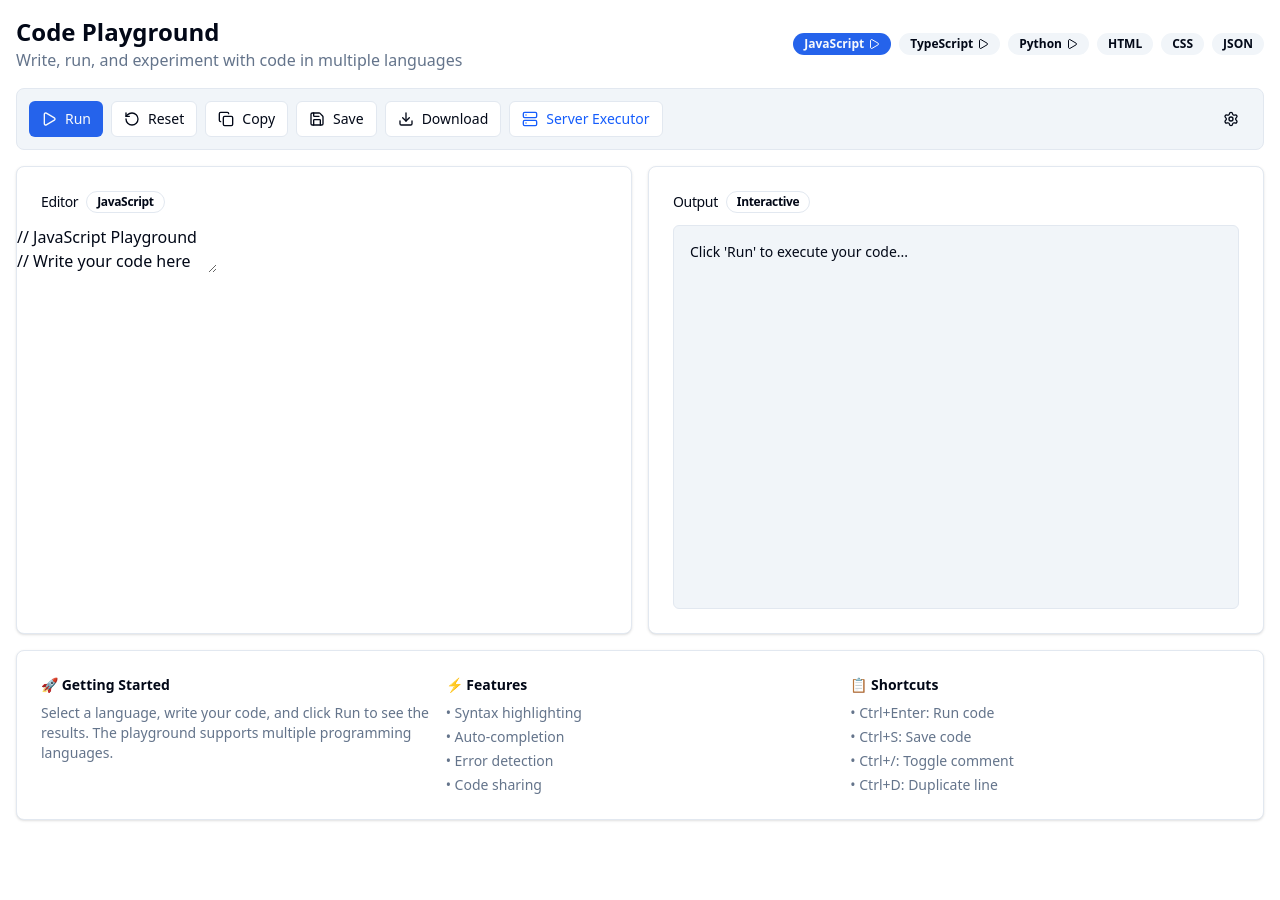
CodePlayground › runs JavaScript code and displays output
Replace the text in the text box with test id "monaco-editor" with "console.log(\"Hello World\")": (117, 249) [17,225,217,273]
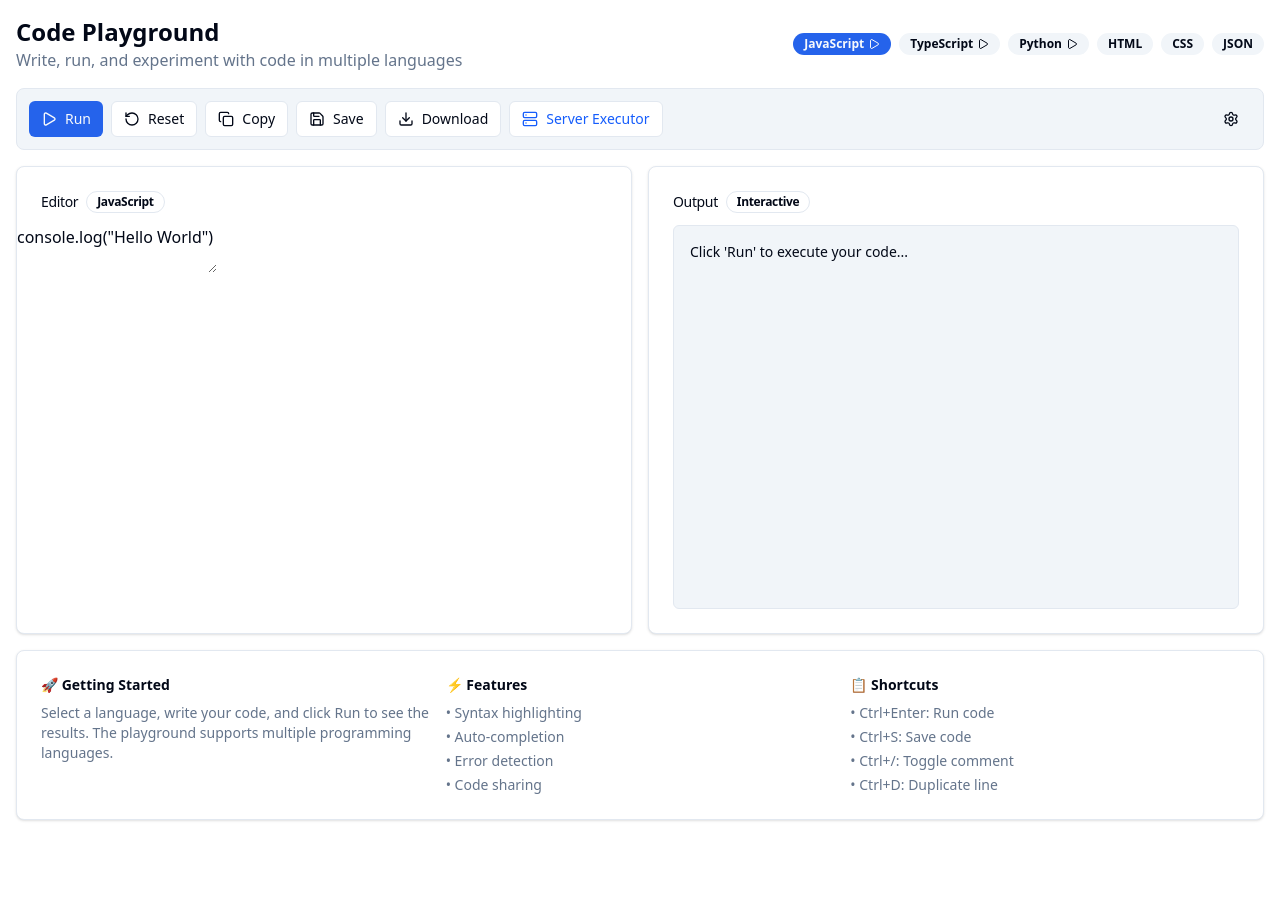
Click the button "Run": (66, 119) [29,101,103,137]
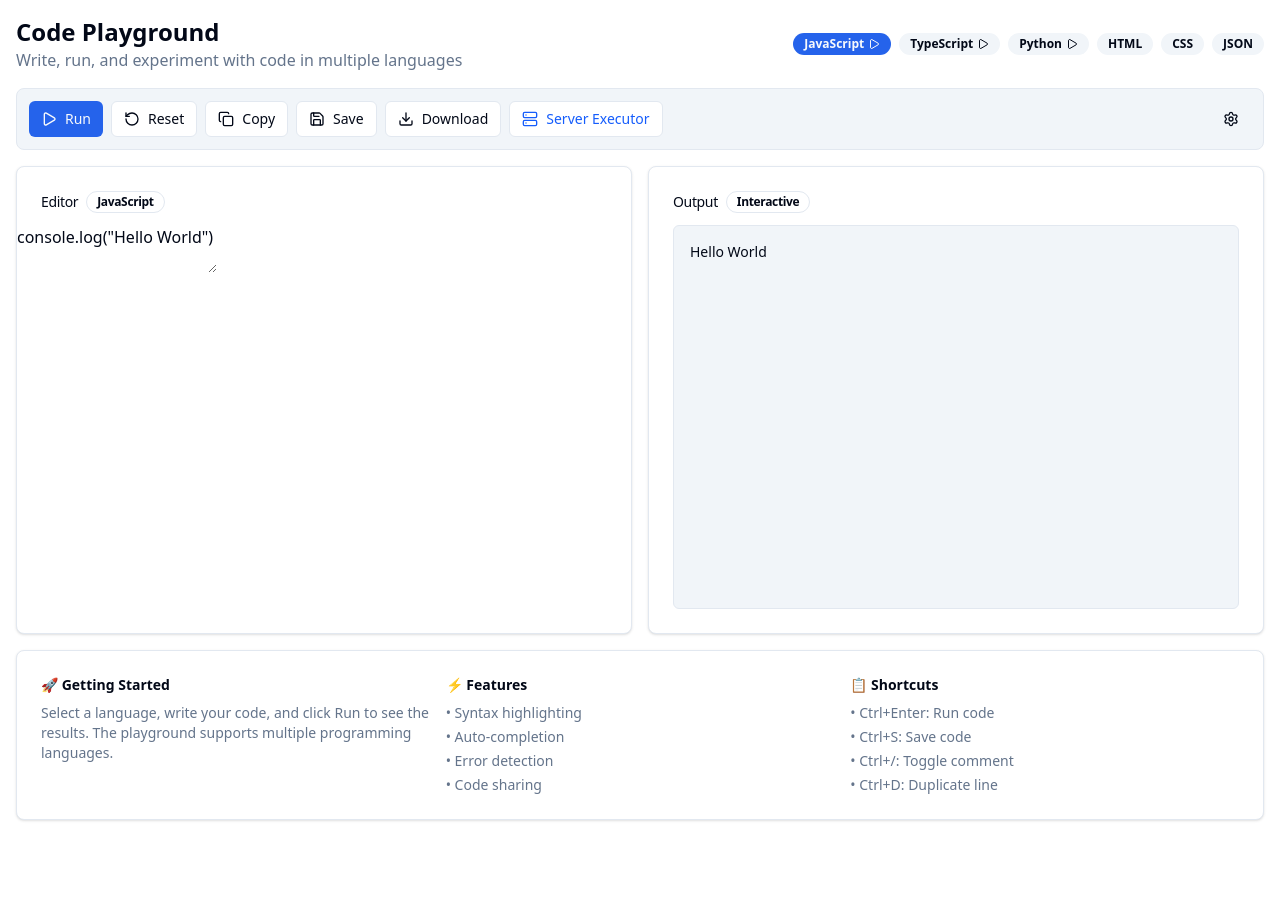
Check: the text "Hello World" is shown, box [690,242,767,261]
